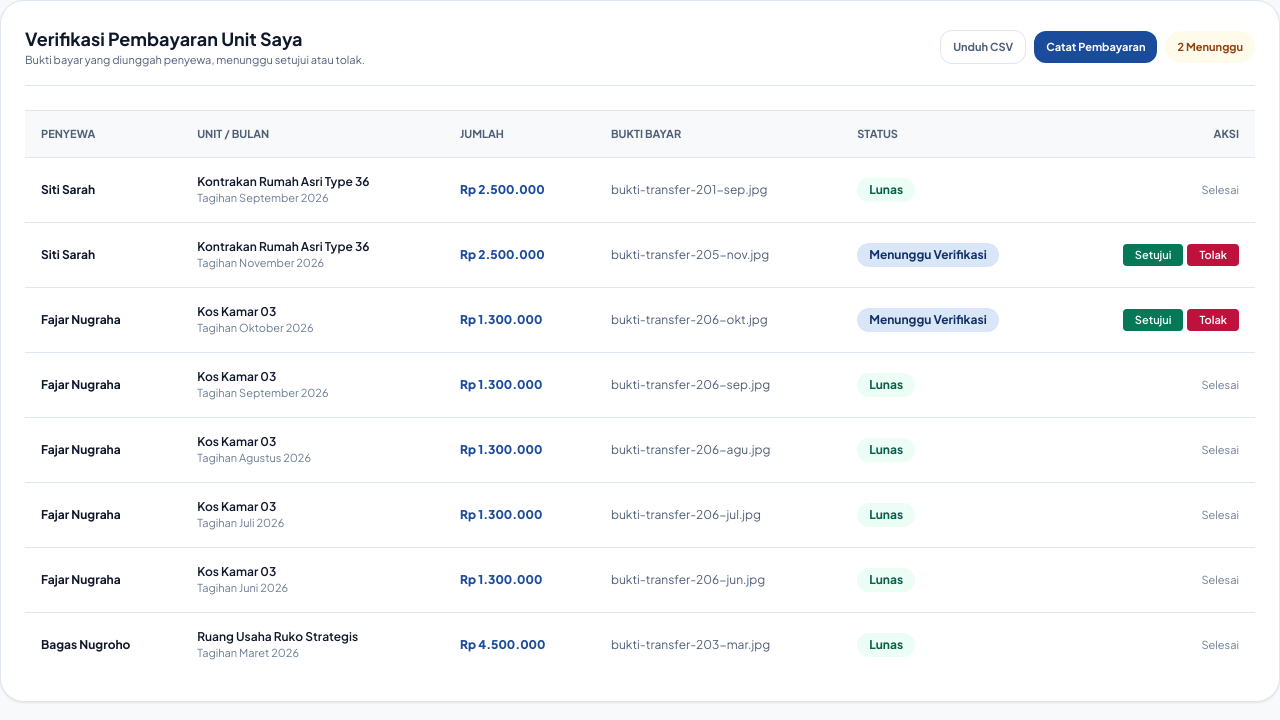
Test case: OwnerPaymentsPage › mengisi jumlah dari biaya bulanan kontrak
The width and height of the screenshot is (1280, 720).
Click the button "Catat Pembayaran": click(1096, 47) [1034, 30, 1158, 63]
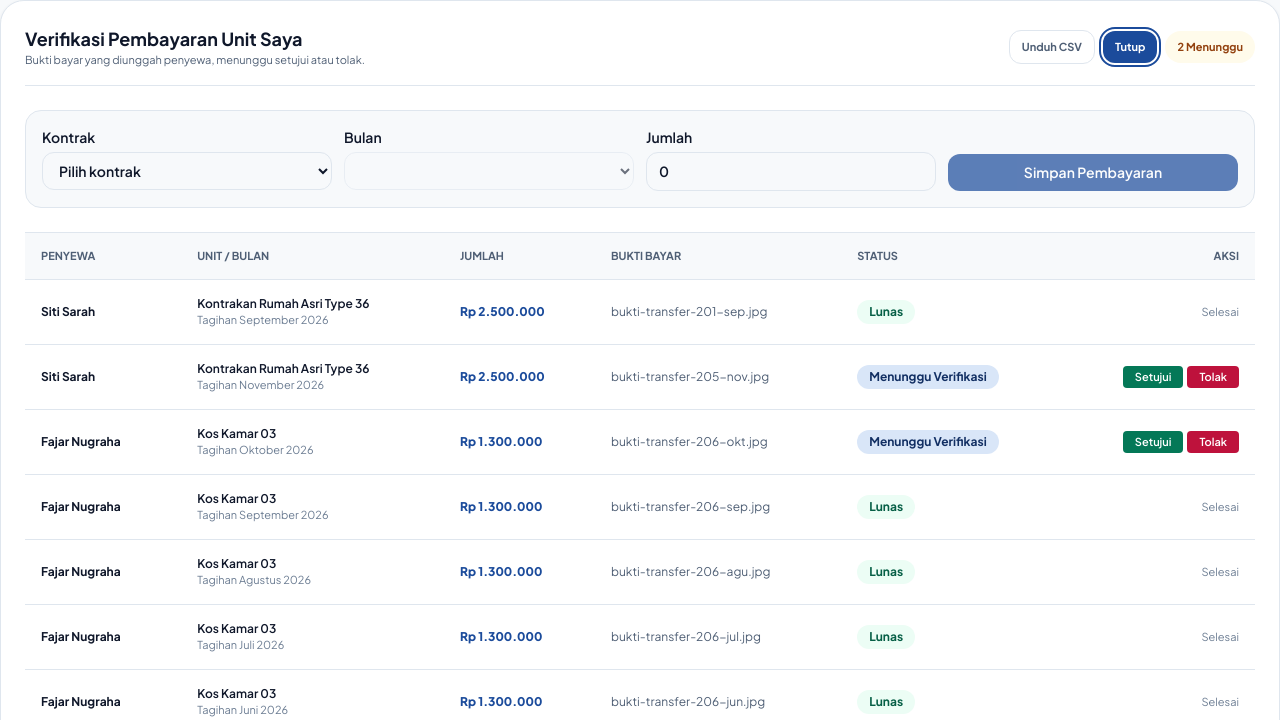
Select "Siti Sarah — Kontrakan Rumah Asri Type 36" in the dropdown labelled "Kontrak": (187, 170) [42, 152, 332, 190]
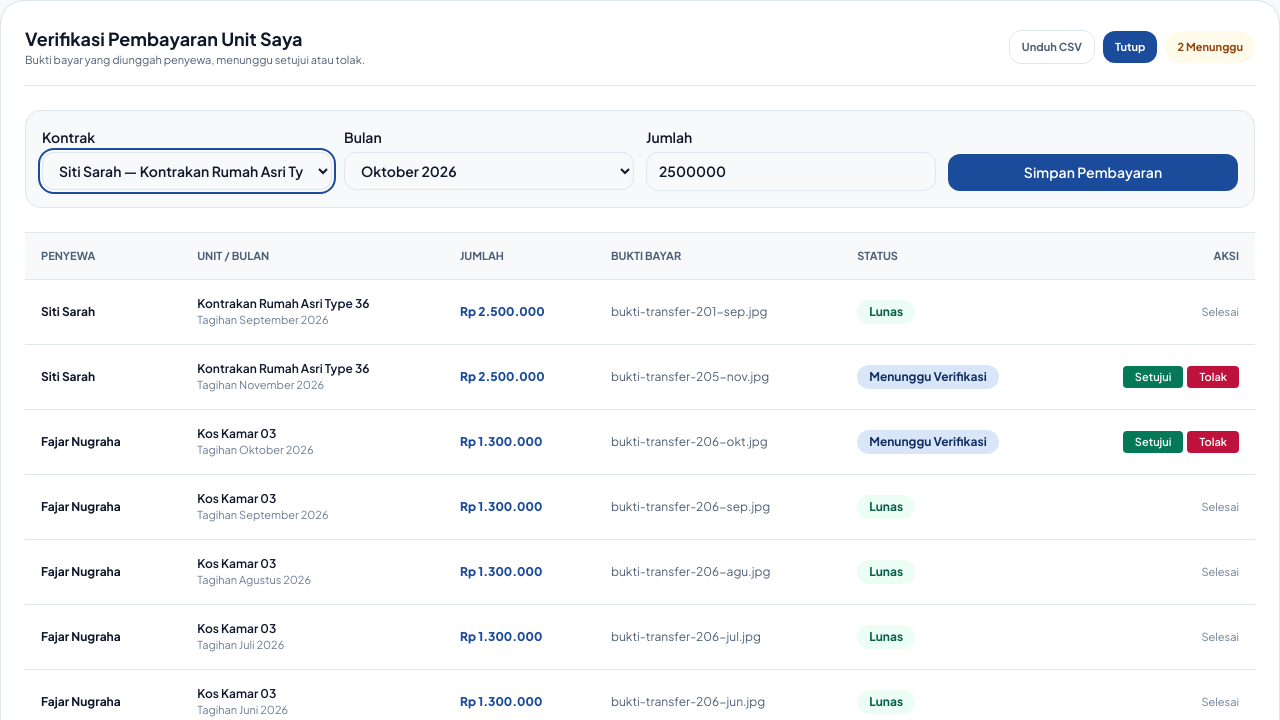
Expected: the number field labelled "Jumlah" holds "2500000", [646, 152, 936, 190]
